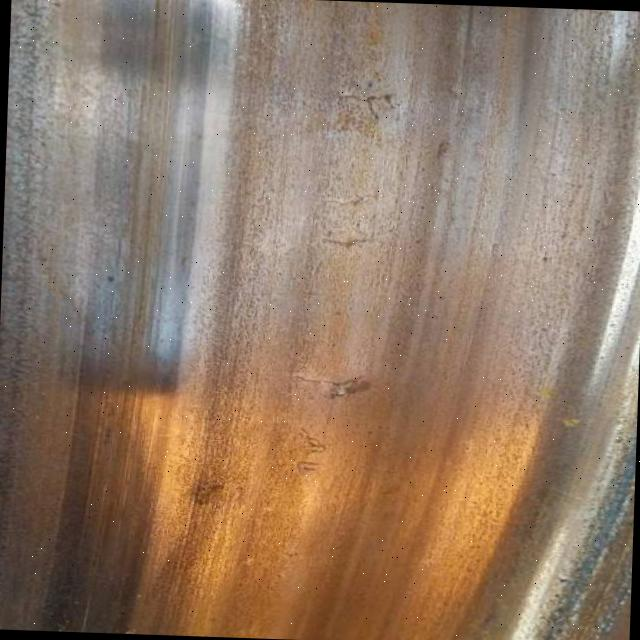Contact_Fatigue_Cracks: (290, 363, 382, 404), (325, 90, 399, 137), (321, 192, 381, 248), (286, 427, 339, 477)
